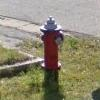Hydrant: (31, 12, 66, 81)
